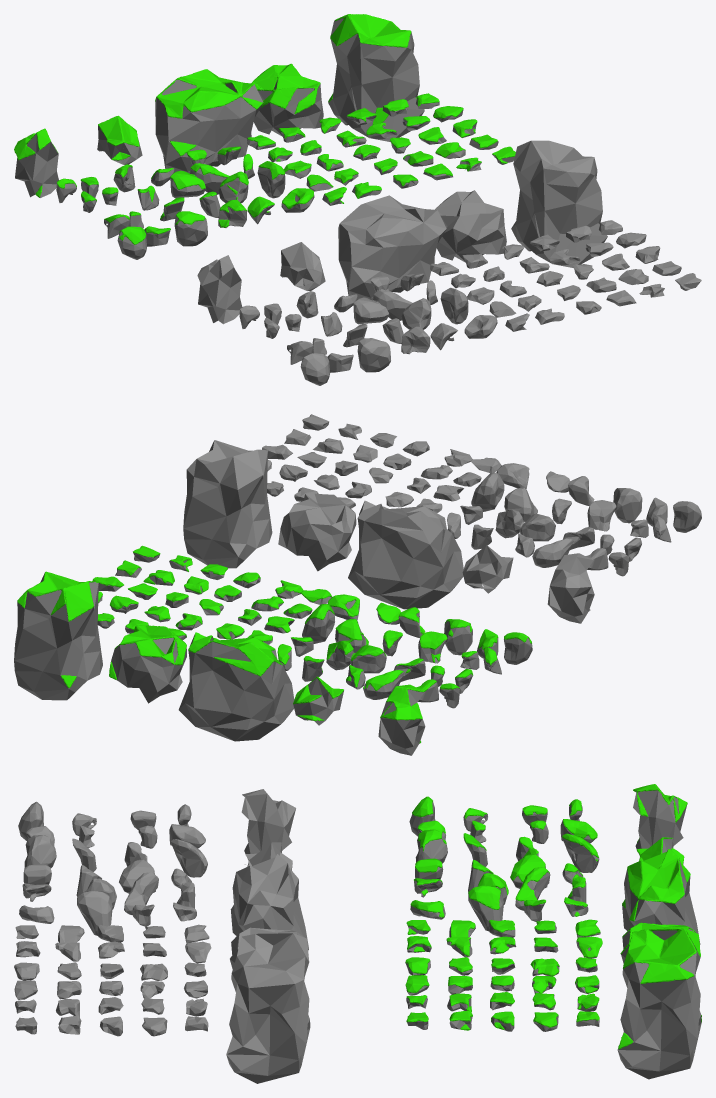
Rendered from rocks.fbx.
The picture shows the model from 3 angles, top to bottom: view 1: azimuth 30°, elevation 25°; view 2: azimuth 150°, elevation 25°; view 3: azimuth 270°, elevation 25°; orthographic projection. The views are drawn at different scales.
Parts seen in each view (by area): view 1: SnowBall.156, SnowBall.094, SnowBall.154, SnowBall.093, SnowBall.078, SnowBall.155, SnowBall.031, SnowBall.151, SnowBall.030, SnowBall.153, SnowBall.024, SnowBall.110 (+12 smaller); view 2: SnowBall.093, SnowBall.154, SnowBall.094, SnowBall.156, SnowBall.078, SnowBall.155, SnowBall.031, SnowBall.151, SnowBall.030, SnowBall.153, SnowBall.024, SnowBall.110 (+16 smaller); view 3: SnowBall.094, SnowBall.156, SnowBall.093, SnowBall.154, SnowBall.031, SnowBall.151, SnowBall.024, SnowBall.110, SnowBall.039, SnowBall.115, SnowBall.020, SnowBall.109 (+14 smaller).
Boxes of the visible parts, x1,y1,x2,y2 form: SnowBall.156: (511, 140, 607, 268); SnowBall.094: (328, 14, 424, 142); SnowBall.154: (338, 195, 446, 300); SnowBall.093: (155, 69, 263, 173); SnowBall.078: (251, 63, 323, 136); SnowBall.155: (435, 190, 506, 262); SnowBall.031: (14, 128, 58, 197); SnowBall.151: (197, 255, 242, 324); SnowBall.030: (97, 115, 142, 164); SnowBall.153: (280, 242, 325, 290); SnowBall.024: (170, 163, 229, 198); SnowBall.110: (353, 290, 412, 324); SnowBall.093: (178, 632, 294, 741); SnowBall.154: (348, 500, 463, 609); SnowBall.094: (14, 571, 102, 700); SnowBall.156: (183, 440, 272, 568); SnowBall.078: (109, 625, 186, 703); SnowBall.155: (278, 493, 356, 571); SnowBall.031: (378, 684, 425, 755); SnowBall.151: (547, 553, 594, 623); SnowBall.030: (293, 676, 343, 725); SnowBall.153: (462, 545, 513, 593); SnowBall.024: (326, 640, 386, 673); SnowBall.110: (495, 509, 555, 541); SnowBall.094: (617, 928, 701, 1079); SnowBall.156: (226, 933, 310, 1083); SnowBall.093: (622, 849, 700, 944); SnowBall.154: (230, 854, 308, 949); SnowBall.031: (633, 784, 687, 848); SnowBall.151: (241, 789, 295, 853); SnowBall.024: (510, 854, 550, 910); SnowBall.110: (119, 859, 158, 915); SnowBall.039: (468, 885, 503, 931); SnowBall.115: (77, 891, 112, 935); SnowBall.020: (562, 833, 599, 872); SnowBall.109: (171, 839, 207, 877).
Bounding box in the file's own units: 6505 × 4961 × 1396.
